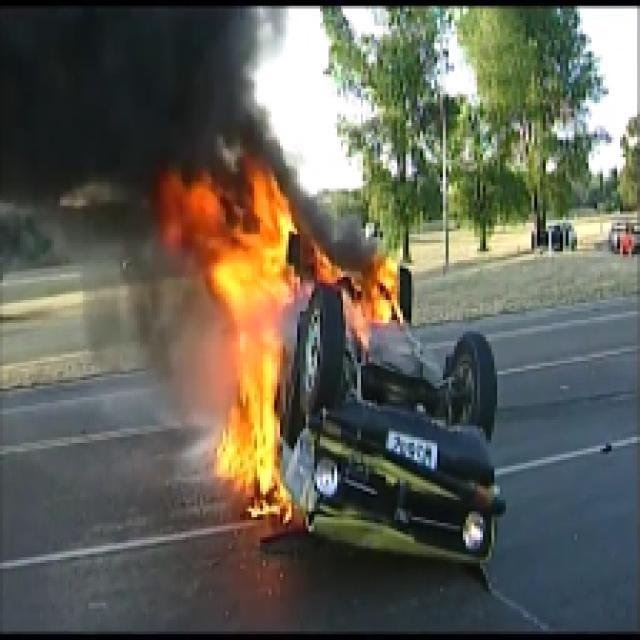Fire: (306, 254, 403, 323)
Smoke: (166, 168, 294, 520), (3, 3, 260, 166)
